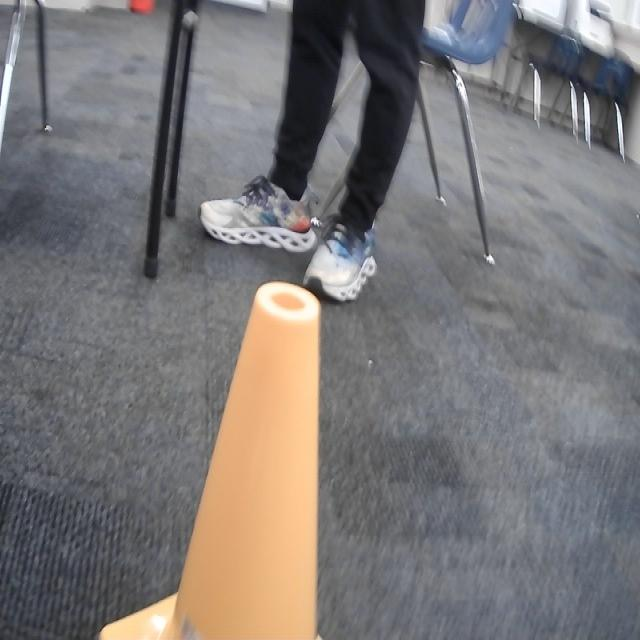cone: (95, 272, 327, 640)
